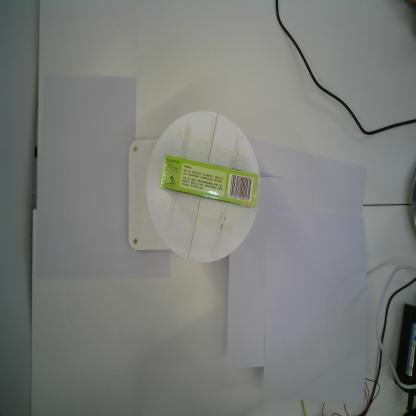Instant Drink: (160, 153, 259, 210)
